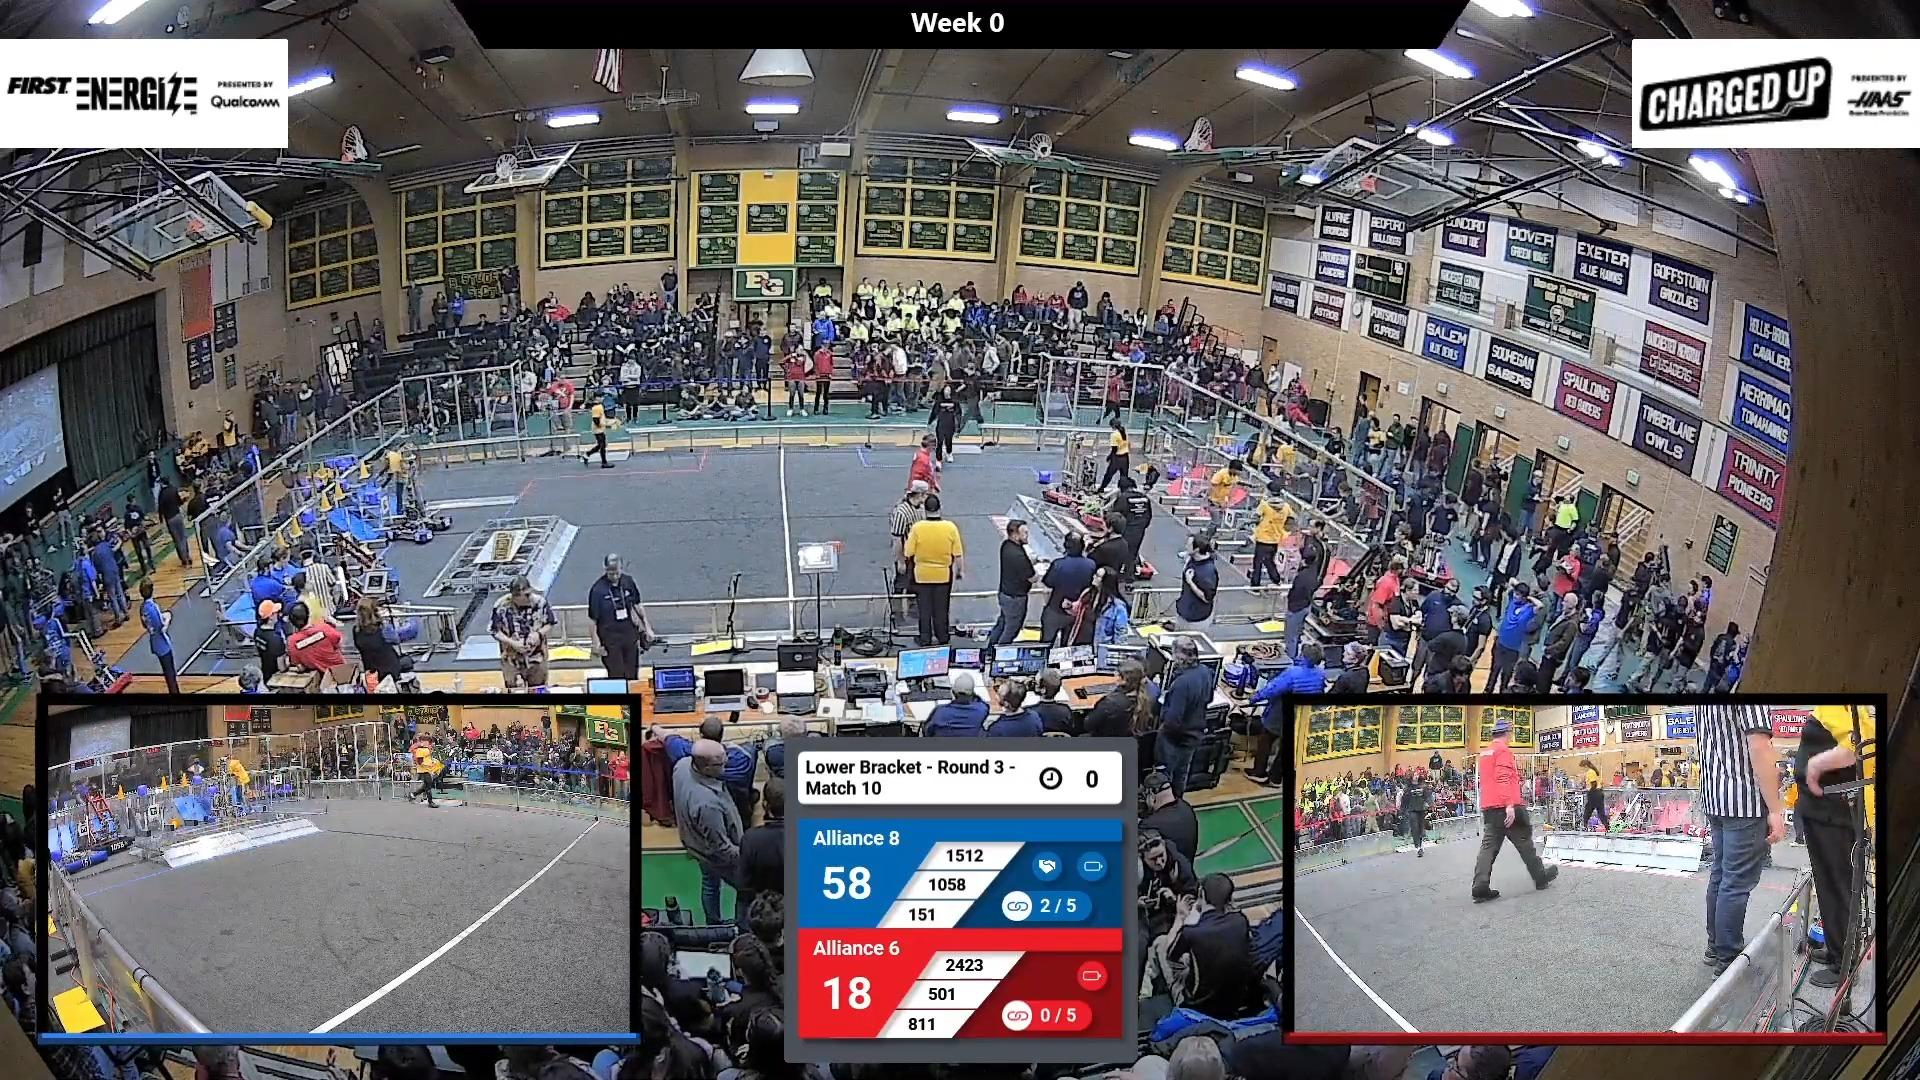robot: (324, 534, 406, 621), (1042, 433, 1113, 514), (1087, 522, 1163, 588), (384, 481, 454, 547), (1073, 475, 1146, 535), (363, 596, 423, 649)
